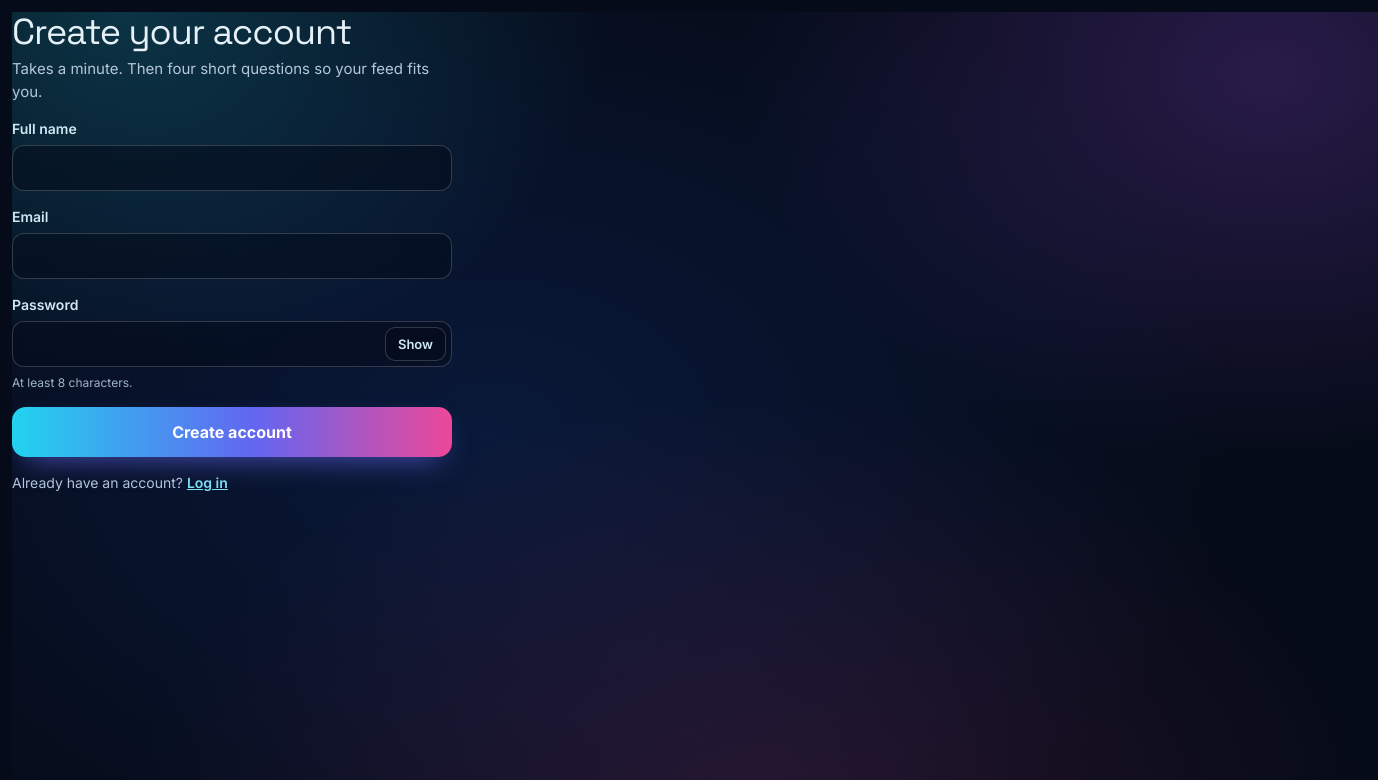
Test case: AuthForm › shows field errors with role=alert and aria-invalid on empty submit
The image size is (1378, 780).
Step 1. Click the button named "Create account" → (232, 432), box [12,407,452,457]
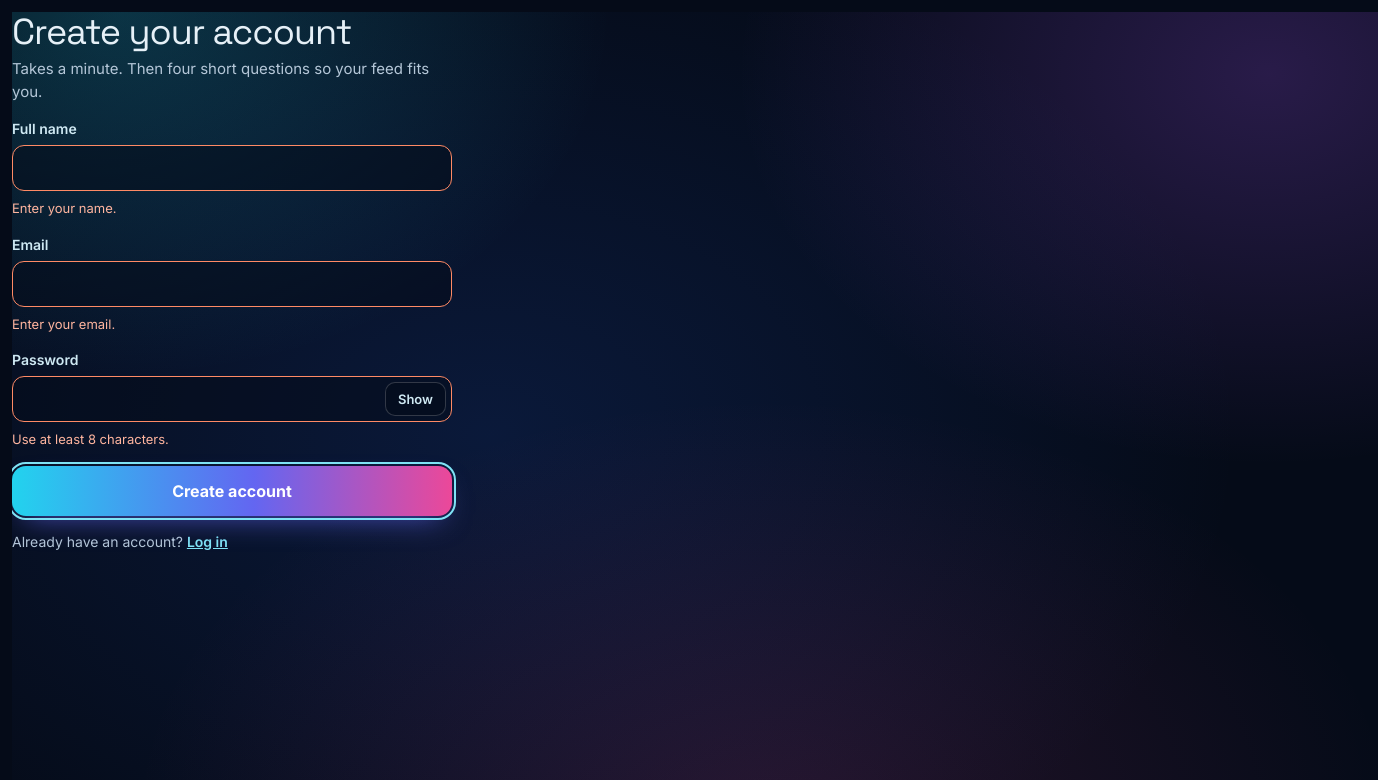
Expected: the text "Enter your email." is shown, [12,316,115,332]
Expected: the text "Use at least 8 characters." is shown, [12,431,169,447]
